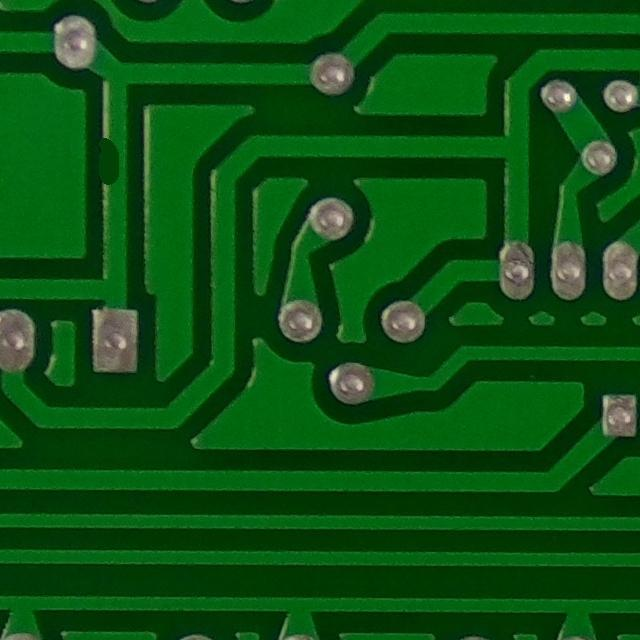mouse_bite: (87, 124, 140, 199)
